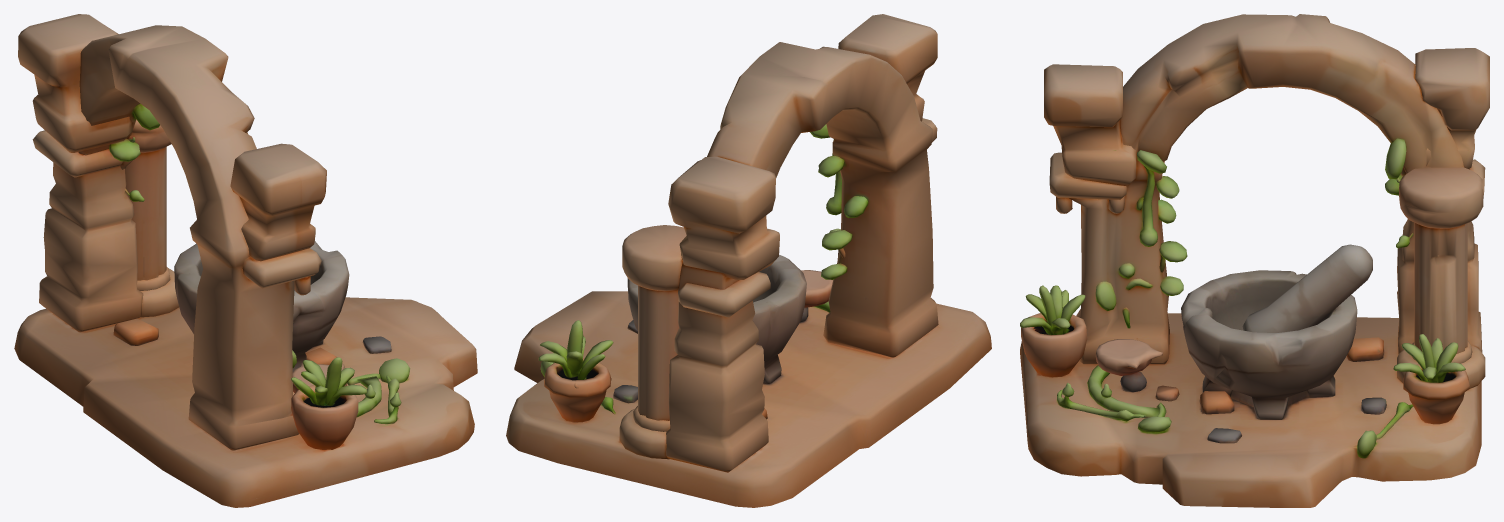
3 renders of one model, left to right at view 1: azimuth 30°, elevation 25°; view 2: azimuth 150°, elevation 25°; view 3: azimuth 270°, elevation 25°, orthographic.
Parts seen in each view (by area): view 1: tripo_node_ebbe2dd0; view 2: tripo_node_ebbe2dd0; view 3: tripo_node_ebbe2dd0.
Boxes of the visible parts, x1,y1,x2,y2 form: tripo_node_ebbe2dd0: (14,14,477,507); tripo_node_ebbe2dd0: (506,14,991,507); tripo_node_ebbe2dd0: (1020,14,1489,507).
Bounding box in the file's own units: 0.8379 × 0.8223 × 0.998.
1 material, 1 textured.
